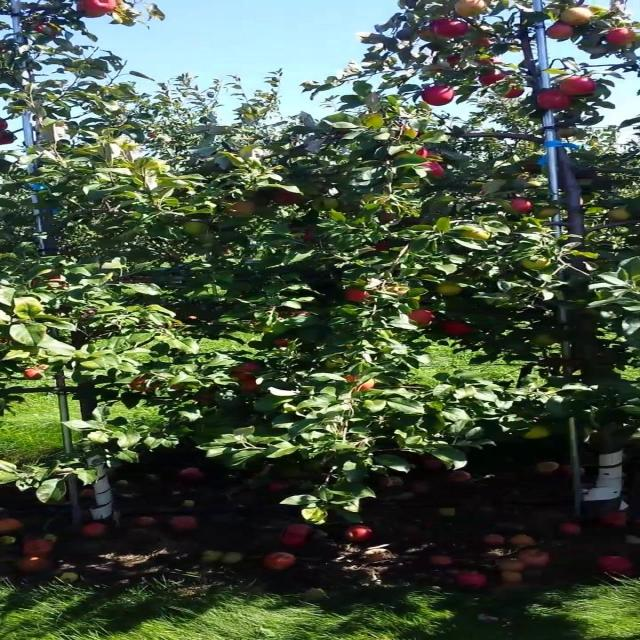apple: (433, 20, 469, 40), (561, 76, 597, 96), (540, 92, 574, 112), (454, 0, 491, 17), (561, 8, 592, 27), (426, 88, 455, 107), (84, 4, 117, 20), (611, 28, 636, 48), (35, 272, 66, 287), (547, 24, 576, 40), (348, 376, 377, 392), (525, 424, 551, 440), (234, 376, 260, 392), (35, 24, 62, 38), (461, 228, 491, 240), (483, 72, 508, 86), (227, 204, 256, 216), (276, 192, 302, 205), (447, 324, 475, 336), (134, 376, 155, 392), (348, 288, 370, 303), (419, 28, 444, 41), (184, 224, 208, 236), (532, 336, 556, 348), (511, 200, 533, 213), (611, 208, 633, 221), (525, 260, 551, 271), (476, 56, 501, 67), (504, 88, 526, 100), (412, 312, 434, 324), (440, 284, 462, 296), (426, 164, 448, 176), (234, 364, 263, 373), (319, 200, 341, 211), (28, 368, 46, 380), (305, 228, 320, 242), (540, 208, 560, 218), (284, 312, 311, 319), (404, 128, 421, 138), (390, 288, 411, 296), (561, 128, 576, 139), (447, 56, 462, 66), (476, 40, 494, 48), (419, 148, 432, 159), (276, 340, 292, 348), (376, 244, 391, 252), (525, 164, 540, 172), (383, 216, 396, 224), (6, 136, 14, 144)
